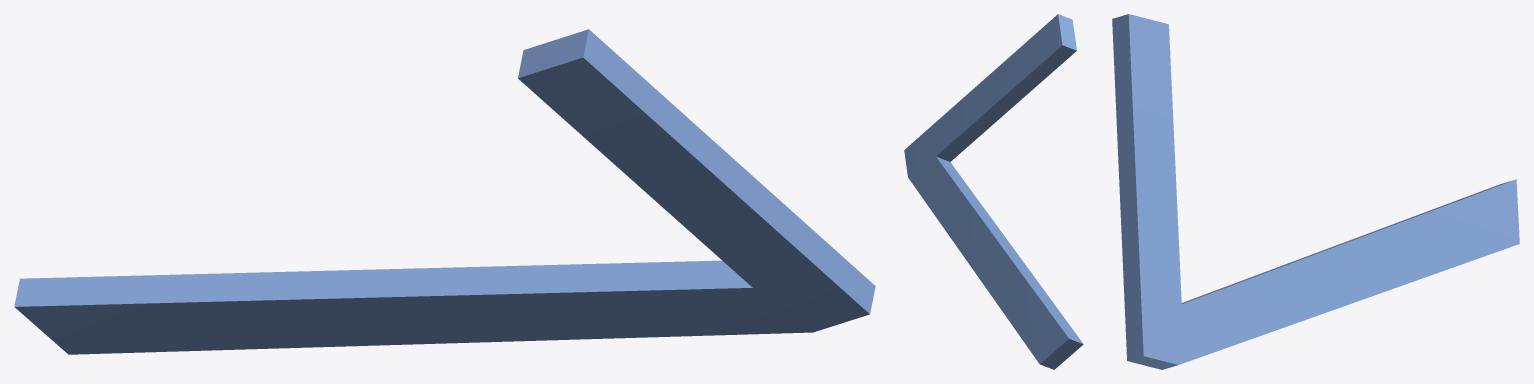
The model's file is New_Number_7.gltf.
3 renders of one model, left to right at view 1: azimuth 30°, elevation 25°; view 2: azimuth 150°, elevation 25°; view 3: azimuth 270°, elevation 25°, orthographic. The views are drawn at different scales.
Parts seen in each view (by area): view 1: Part 178; view 2: Part 178; view 3: Part 178.
Boxes of the visible parts, bbox=[...] form: Part 178: bbox=[14, 29, 875, 354]; Part 178: bbox=[904, 14, 1083, 369]; Part 178: bbox=[1112, 14, 1519, 369].
Bounding box in the file's own units: 0.0051 × 0.00364 × 0.00416.
